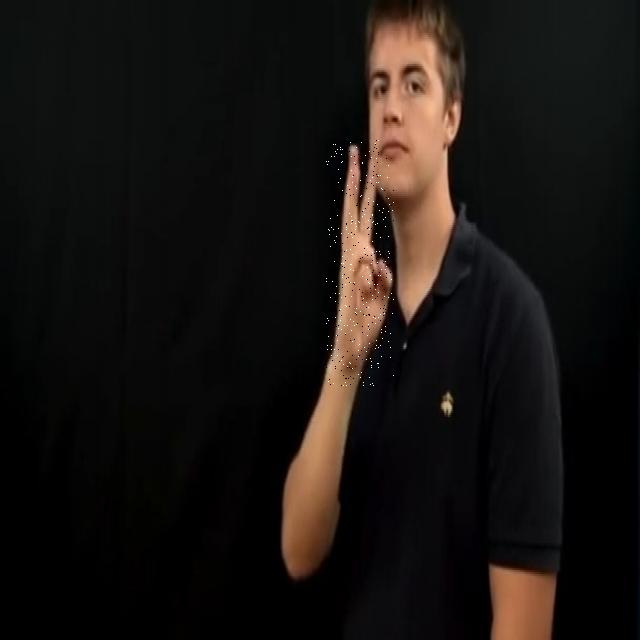water: (326, 140, 394, 386)
